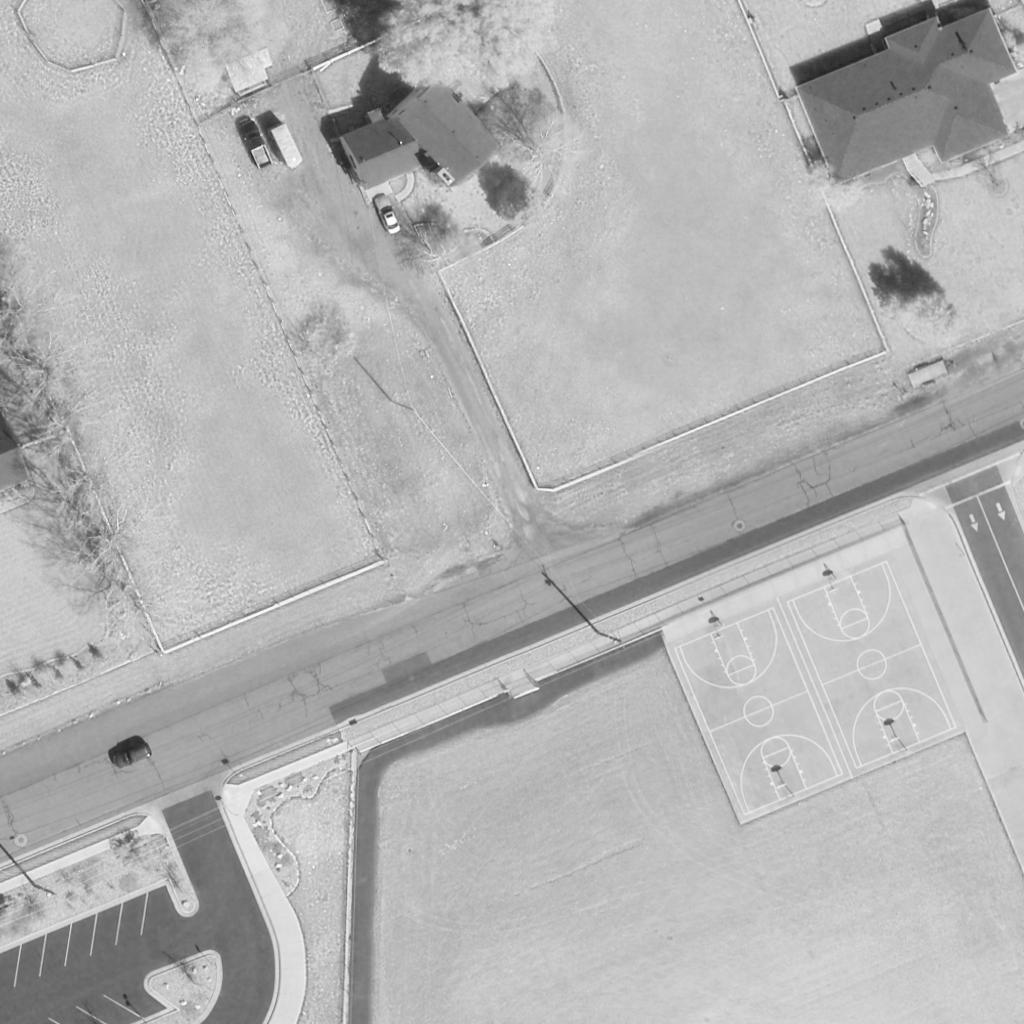vehicle: (236, 121, 274, 169), (266, 124, 304, 172), (371, 194, 401, 238), (110, 743, 156, 771)
